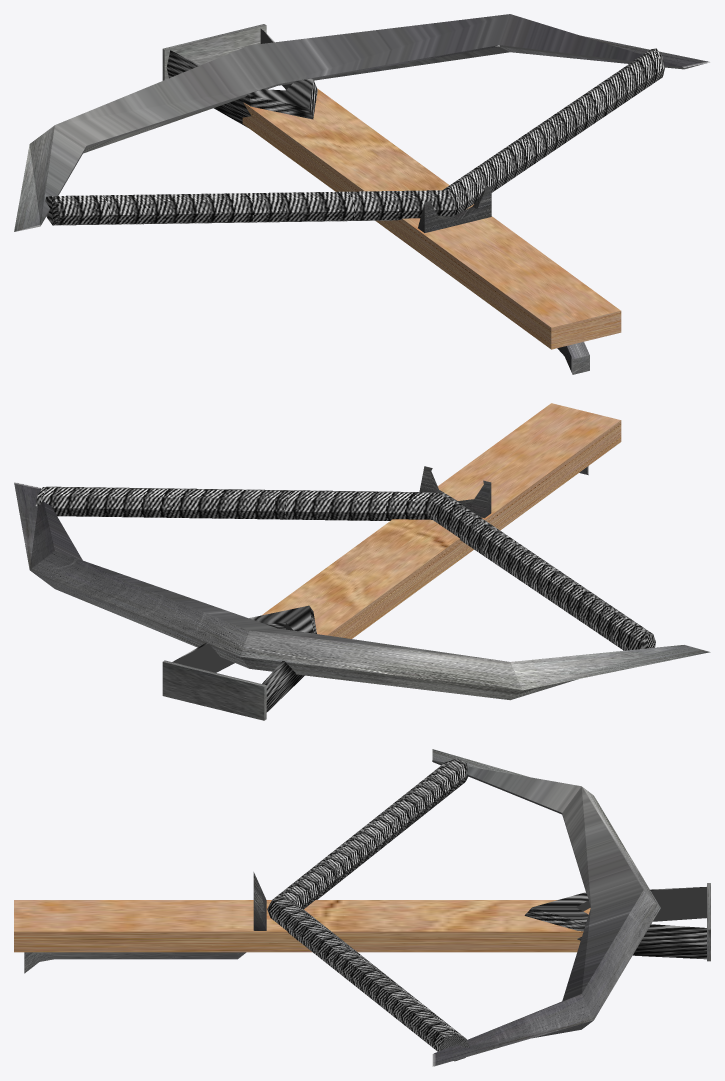
Rendered from Crossbow19.obj.
3 renders of one model, top to bottom at view 1: azimuth 30°, elevation 25°; view 2: azimuth 150°, elevation 25°; view 3: azimuth 270°, elevation 25°, orthographic. The views are drawn at different scales.
Parts seen in each view (by area): view 1: Sphere; view 2: Sphere; view 3: Sphere.
Boxes of the visible parts, x1,y1,x2,y2 form: Sphere: (14, 14, 710, 374); Sphere: (14, 403, 710, 720); Sphere: (14, 749, 710, 1066).
Bounding box in the file's own units: 5.04 × 0.6142 × 4.67.
